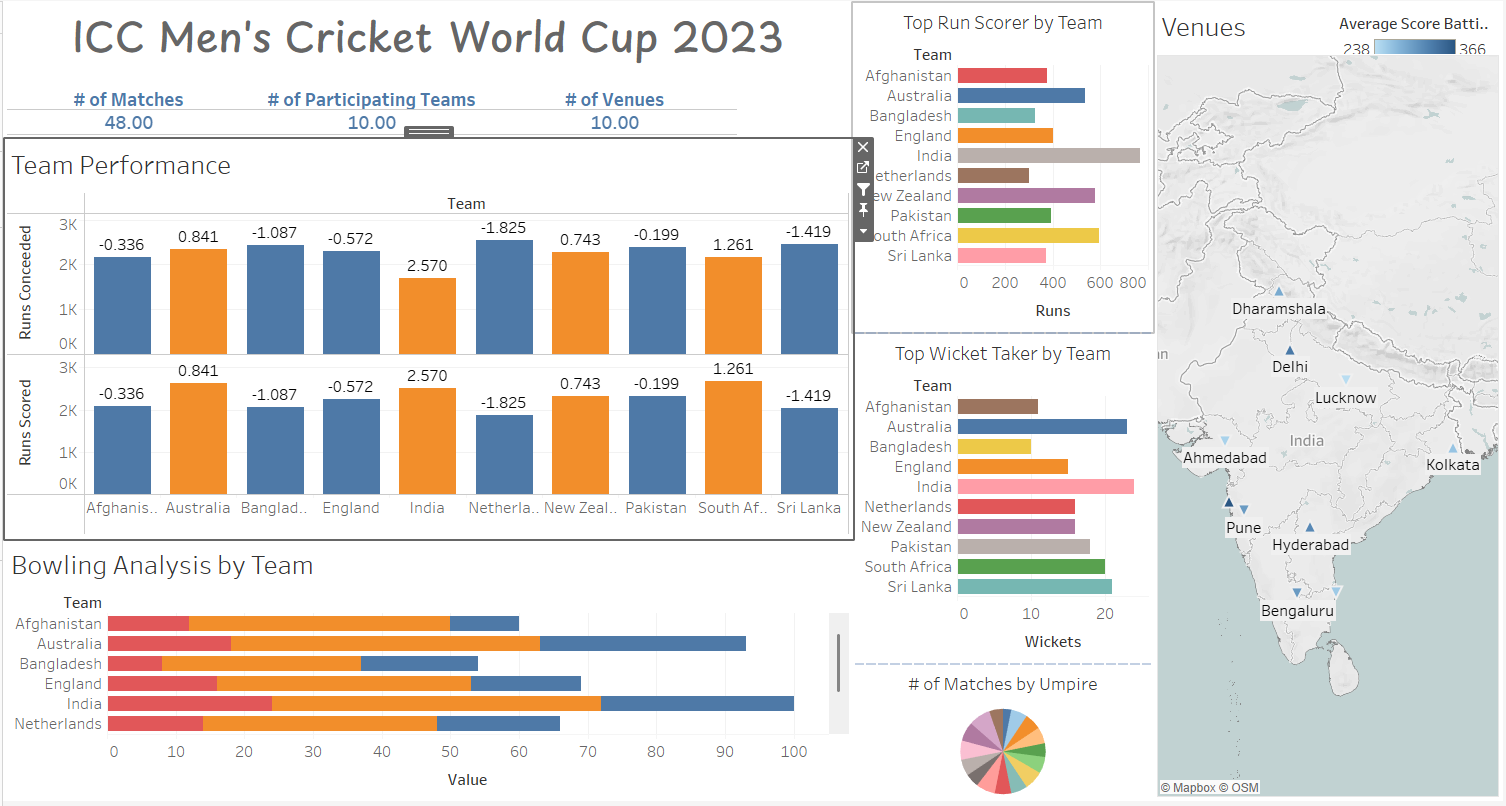

The dashboard page shown, as its layout file describes it:
{"tool":"tableau","page":{"name":"Dashboard 1","canvas":[1500,800],"ordinal":0},"visuals":[{"type":"text","box":[0,0,849.9,69]},{"type":"worksheet","title":"Sheet 6","mark":"Automatic","rows":["Team Name"],"cols":["Runs"],"box":[849.9,0,300,331]},{"type":"worksheet","title":"Venues","mark":"Shape","rows":["Latitude"],"cols":["Longitude"],"box":[1149.9,0,350,800]},{"type":"legend","title":"Venues","param":"[federated.02hv3ns0nlpsch1cmsvmg0f303zu].[sum:Average Score Batting First:qk]","box":[1332,8,160,73]},{"type":"worksheet","title":"Basic Info","mark":"Automatic","box":[0,69,849.9,69]},{"type":"legend","title":"Venues","param":"[federated.02hv3ns0nlpsch1cmsvmg0f303zu].[usr:Calculation_1327436052084977666:nk","box":[1332,81,160,72]},{"type":"worksheet","title":"Teams","mark":"Automatic","rows":["Runs Conceeded","Runs Scored"],"cols":["Team"],"box":[0,138,849.9,400]},{"type":"legend","title":"Bowling Analysis","param":"[federated.0zkgxym1bli66z1c8k1rk0ylv2ld].[:Measure Names]","box":[1332,153,160,93]},{"type":"legend","title":"Teams","param":"[federated.08hphw807nabwt17r654p1lnddml].[none:Calculation_1327436052044812288:n","box":[1332,246,160,72]},{"type":"legend","title":"Sheet 6","param":"[federated.16bh32f1m7yqis10mhhkt0ebld3m].[none:Top Run Getter:nk]","box":[1332,318,160,237]},{"type":"worksheet","title":"Sheet 7","mark":"Automatic","rows":["Team Name"],"cols":["Wickets"],"box":[849.9,331,300,331]},{"type":"worksheet","title":"Bowling Analysis","mark":"Automatic","rows":["Team"],"box":[0,538,849.9,262]},{"type":"legend","title":"Umpires","param":"[federated.0eaaxyd1oxv0qp12yvobz19d9bx2].[none:Umpire Name:nk]","box":[1332,555,160,237]},{"type":"worksheet","title":"Umpires","mark":"Pie","box":[849.9,662,300,138]}]}

Visuals, with their boxes in screenshot pixels (x1, y1, x2, y2), scaled from the page's 1500x800 canvas onto the 1506x806 screenshot:
text: l=0, t=0, r=853, b=70
"Sheet 6" worksheet: l=853, t=0, r=1154, b=333
"Venues" worksheet (Shape marks): l=1154, t=0, r=1505, b=805
"Venues" legend: l=1337, t=8, r=1498, b=82
"Basic Info" worksheet: l=0, t=70, r=853, b=139
"Venues" legend: l=1337, t=82, r=1498, b=154
"Teams" worksheet: l=0, t=139, r=853, b=542
"Bowling Analysis" legend: l=1337, t=154, r=1498, b=248
"Teams" legend: l=1337, t=248, r=1498, b=320
"Sheet 6" legend: l=1337, t=320, r=1498, b=559
"Sheet 7" worksheet: l=853, t=333, r=1154, b=667
"Bowling Analysis" worksheet: l=0, t=542, r=853, b=805
"Umpires" legend: l=1337, t=559, r=1498, b=798
"Umpires" worksheet (Pie marks): l=853, t=667, r=1154, b=805
